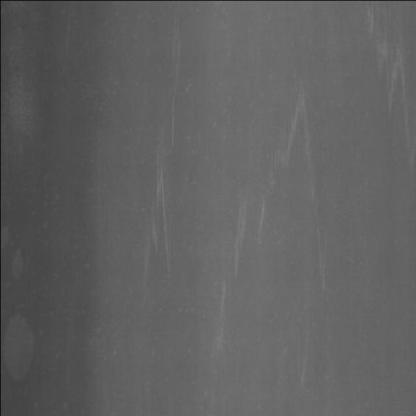silk_spot: (136, 92, 192, 276), (220, 169, 276, 274), (264, 92, 322, 186)
